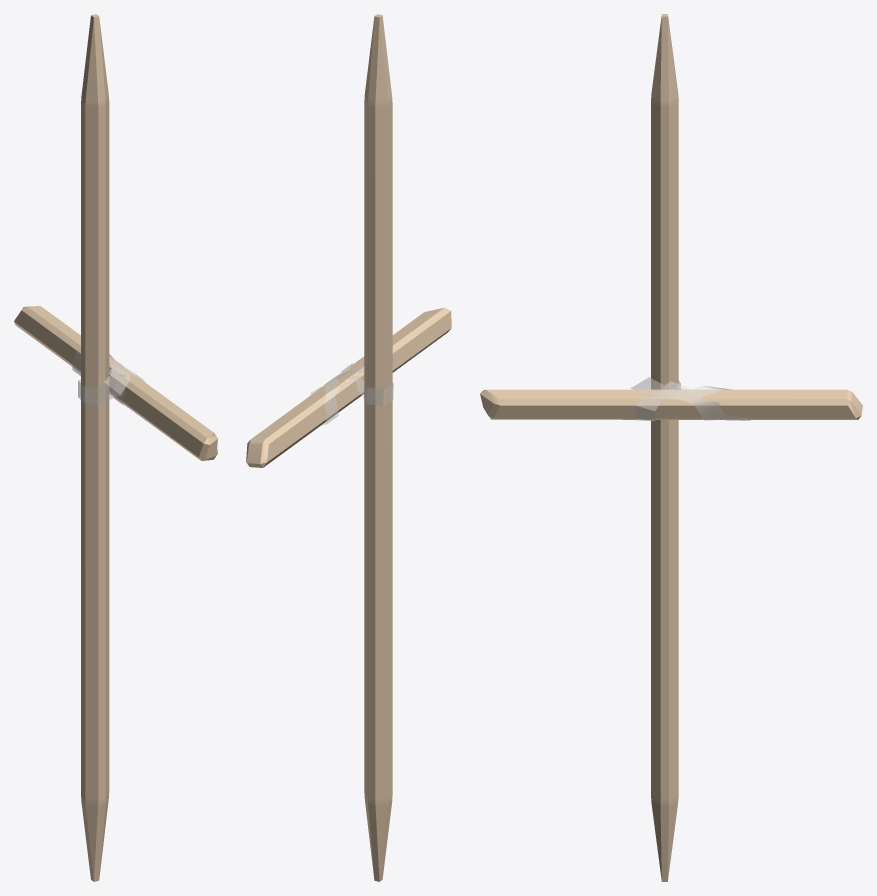
Rendered from Toothpick_ShoeBox_01.fbx.
3 views of the same model, side by side, from view 1: azimuth 30°, elevation 25°; view 2: azimuth 150°, elevation 25°; view 3: azimuth 270°, elevation 25° (orthographic).
Visible parts, largest first — view 1: Toothpick_ShoeBox_01; view 2: Toothpick_ShoeBox_01; view 3: Toothpick_ShoeBox_01.
Part boxes in pixels (x1,y1,x2,y2): Toothpick_ShoeBox_01: [14, 14, 217, 881]; Toothpick_ShoeBox_01: [246, 14, 451, 881]; Toothpick_ShoeBox_01: [480, 14, 862, 881].
Size of the model in its own units: 0.294 by 4.37 by 1.75.
